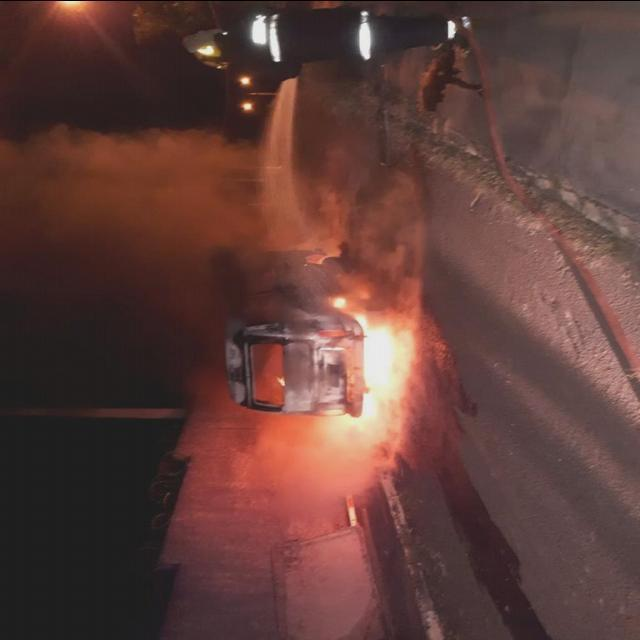Fire: (345, 314, 395, 412)
